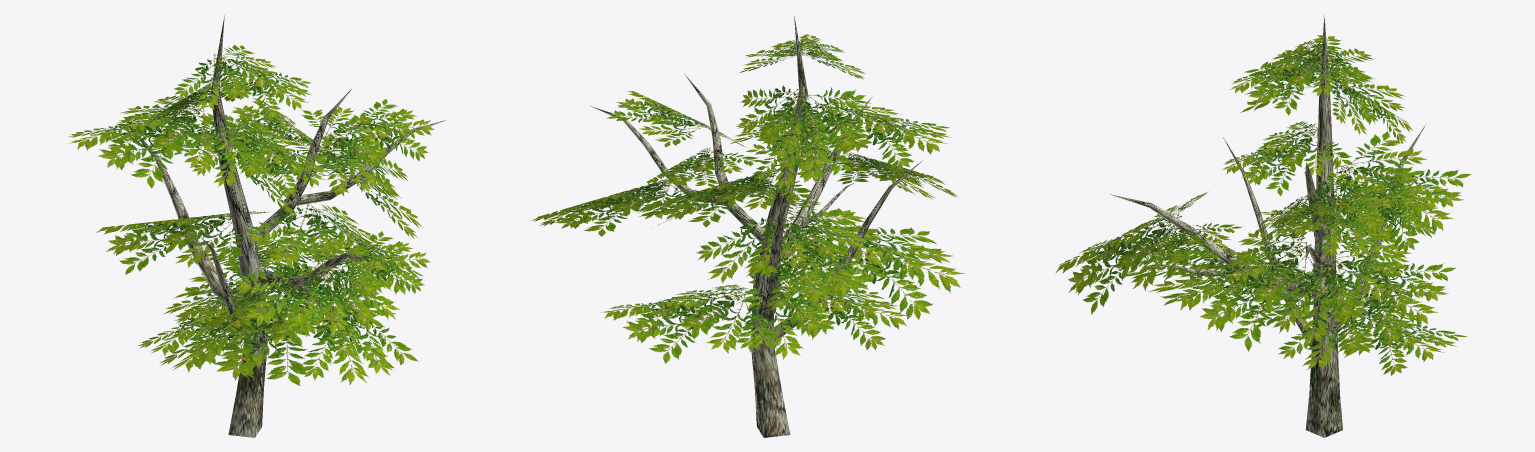
The model's file is Tree2.glb.
3 renders of one model, left to right at view 1: azimuth 30°, elevation 25°; view 2: azimuth 150°, elevation 25°; view 3: azimuth 270°, elevation 25°, orthographic. The views are drawn at different scales.
Parts seen in each view (by area): view 1: Branch01, NurbsPath; view 2: Branch01, NurbsPath; view 3: Branch01, NurbsPath.
Boxes of the visible parts, box(x1,y1,x2,y2) form: Branch01: box(68, 45, 434, 385); NurbsPath: box(140, 15, 446, 437); Branch01: box(532, 34, 964, 363); NurbsPath: box(590, 16, 922, 437); Branch01: box(1055, 35, 1470, 375); NurbsPath: box(1111, 15, 1425, 437).
Bounding box in the file's own units: 7.45 × 7.05 × 7.53.
2 materials, 2 textured.
